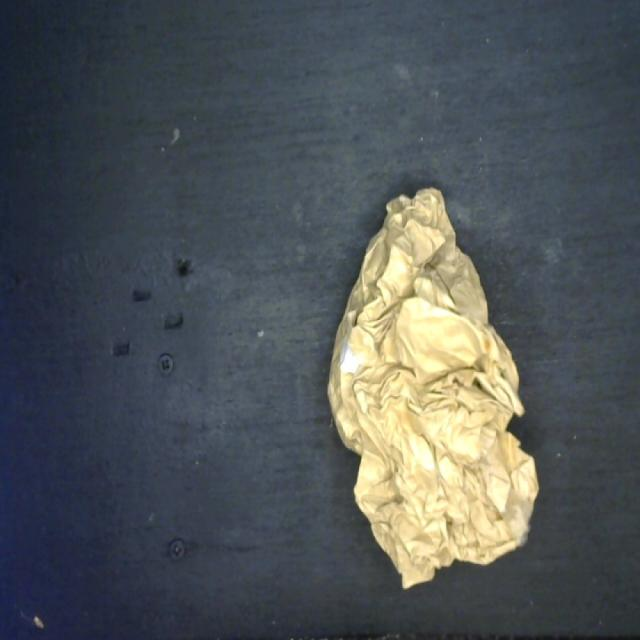biodegradable: (321, 182, 543, 596)
